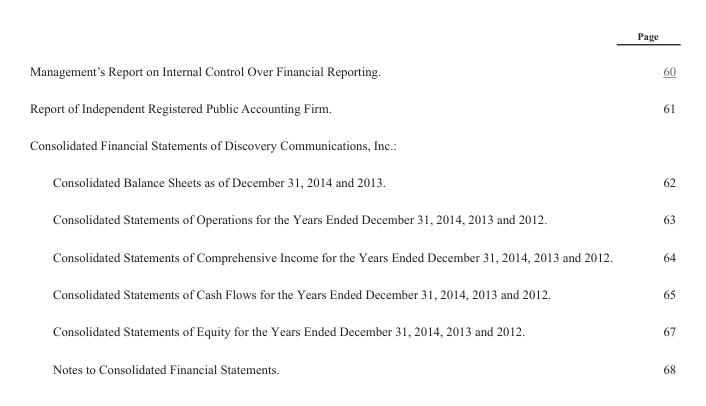table: (28, 29, 675, 375)
table column: (28, 29, 624, 375), (624, 29, 675, 375)
table column header: (28, 29, 675, 52)
table projected row header: (28, 126, 675, 163)
table row: (28, 237, 675, 275), (28, 52, 675, 89), (28, 89, 675, 126), (28, 126, 675, 163), (28, 163, 675, 200), (28, 200, 675, 237), (28, 275, 675, 312), (28, 312, 675, 349), (28, 349, 675, 375), (28, 29, 675, 52)
